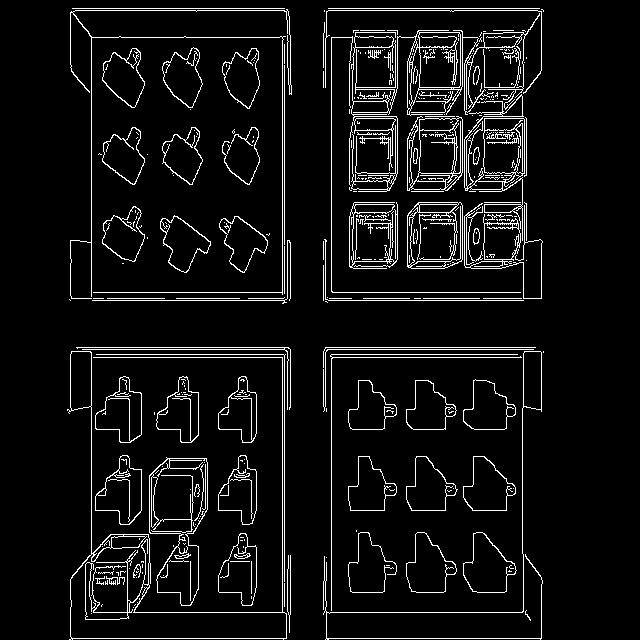Pump: (84, 535, 150, 619), (340, 115, 406, 194), (465, 31, 526, 114), (465, 116, 526, 191), (408, 30, 462, 114), (150, 458, 208, 534), (346, 35, 398, 119), (408, 116, 462, 191), (465, 202, 523, 269), (408, 202, 461, 269), (349, 202, 398, 268)
Regulator: (102, 48, 145, 109), (101, 126, 145, 185), (162, 48, 202, 109), (102, 206, 145, 262), (162, 126, 202, 185), (222, 48, 260, 109), (222, 128, 260, 185)
Sensor: (95, 455, 142, 525), (462, 532, 516, 592), (95, 376, 142, 442), (406, 532, 456, 594), (348, 532, 398, 592), (218, 532, 258, 606), (158, 534, 199, 606), (156, 376, 199, 444), (462, 458, 516, 511), (161, 216, 211, 272), (220, 216, 270, 272), (406, 456, 456, 511), (219, 455, 258, 525), (219, 376, 258, 444), (348, 456, 396, 511), (462, 382, 516, 430), (406, 381, 456, 430), (348, 380, 396, 430)
